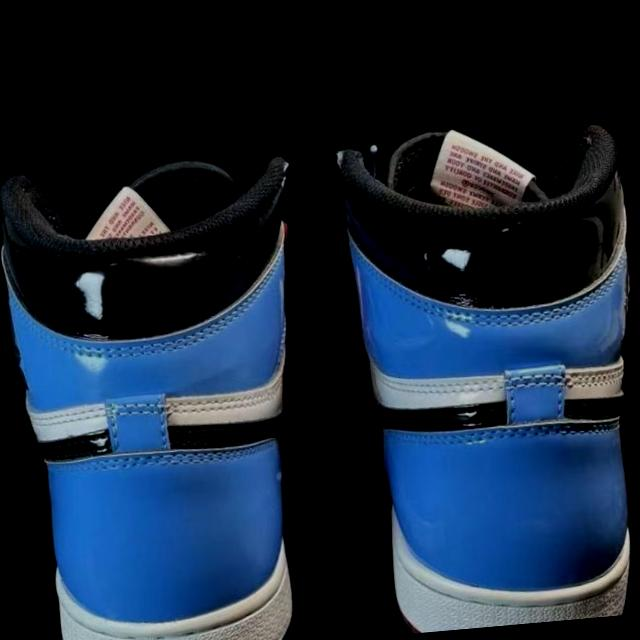nike_original_jordan: (325, 107, 640, 636), (0, 146, 333, 640)
